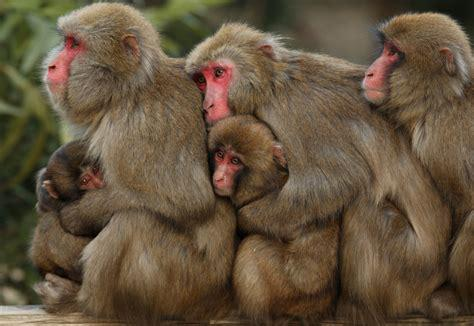monkey: (187, 24, 459, 321), (29, 4, 234, 317), (362, 14, 473, 317), (207, 115, 339, 321), (43, 139, 105, 215)
